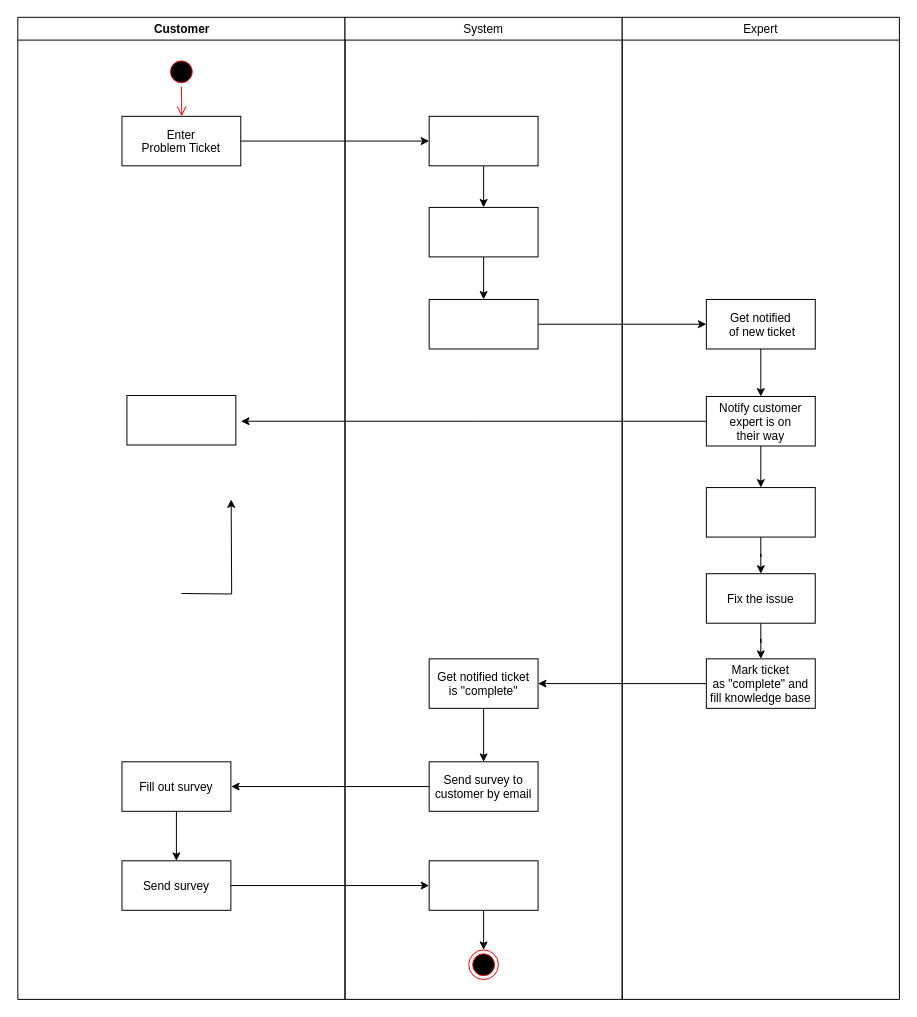
Image size: 917x1017. Some labels were removed from this diagram. The centre of each missing label's shape, as x and y in pixels:
"Determine which expert is best fit" belongs at point (483, 140).
"Get notified expert is on their way" belongs at point (181, 420).
"Notify Expert by SMS of new ticket" belongs at point (483, 323).
"Receive and record survey information" belongs at point (483, 885).
"Retrieve ticket info and history on mobile device" belongs at point (760, 512).
"Upload to expert mobile device" belongs at point (483, 231).
